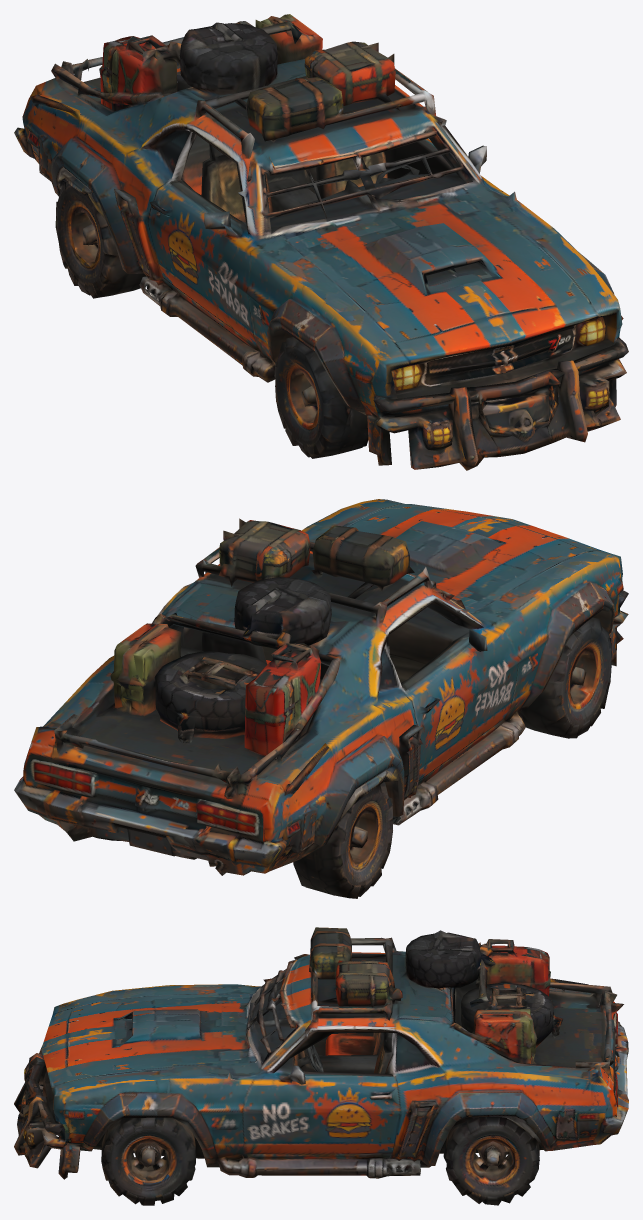
File: rugged_truck.glb
3 renders of one model, top to bottom at view 1: azimuth 30°, elevation 25°; view 2: azimuth 150°, elevation 25°; view 3: azimuth 270°, elevation 25°, orthographic. The views are drawn at different scales.
Visible parts, largest first — view 1: tripo_node_d875f681-80d4-48c5-99e3-ac5fa32711ea; view 2: tripo_node_d875f681-80d4-48c5-99e3-ac5fa32711ea; view 3: tripo_node_d875f681-80d4-48c5-99e3-ac5fa32711ea.
Boxes of the visible parts, x1=… form: tripo_node_d875f681-80d4-48c5-99e3-ac5fa32711ea: x1=14, y1=14, x2=628, y2=470; tripo_node_d875f681-80d4-48c5-99e3-ac5fa32711ea: x1=14, y1=499, x2=628, y2=898; tripo_node_d875f681-80d4-48c5-99e3-ac5fa32711ea: x1=14, y1=927, x2=628, y2=1205.
Size of the model in its own units: 0.4372 by 0.3537 by 0.9781.
Materials: 1 (1 with a texture image).
